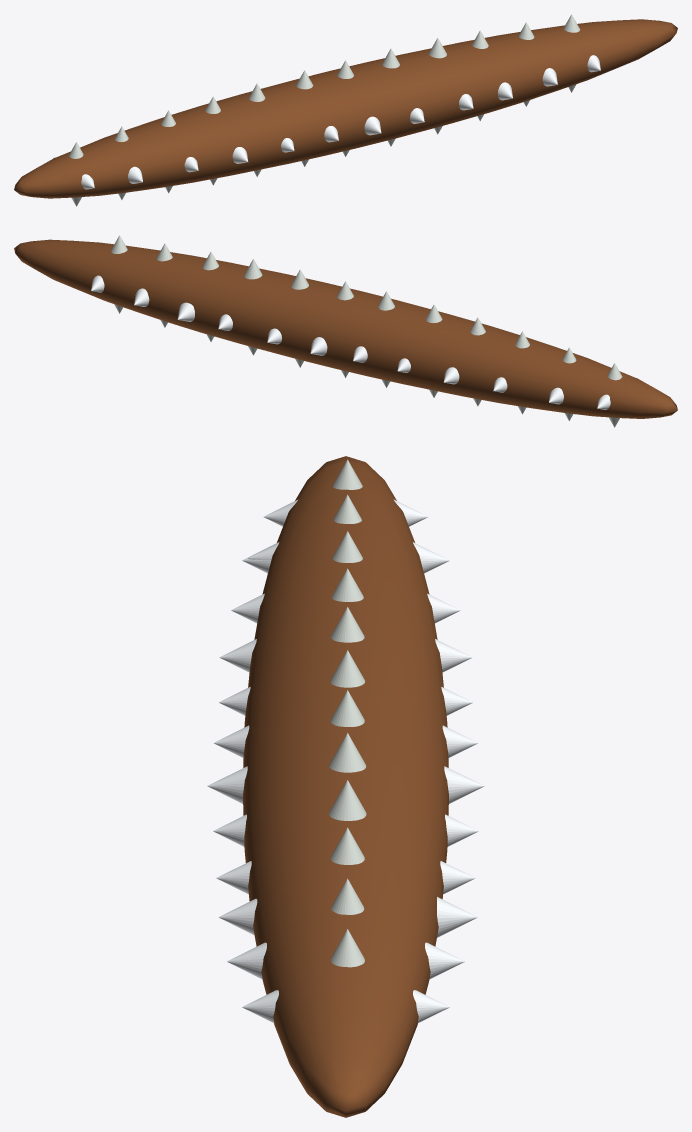
Rendered from wood.fbx.
The picture shows the model from 3 angles, top to bottom: view 1: azimuth 30°, elevation 25°; view 2: azimuth 150°, elevation 25°; view 3: azimuth 270°, elevation 25°; orthographic projection. The views are drawn at different scales.
Parts seen in each view (by area): view 1: Sphere; view 2: Sphere; view 3: Sphere.
Boxes of the visible parts, x1,y1,x2,y2 form: Sphere: (14,14,677,206); Sphere: (14,235,677,427); Sphere: (207,456,484,1117).
Bounding box in the file's own units: 1483 × 211 × 269.
